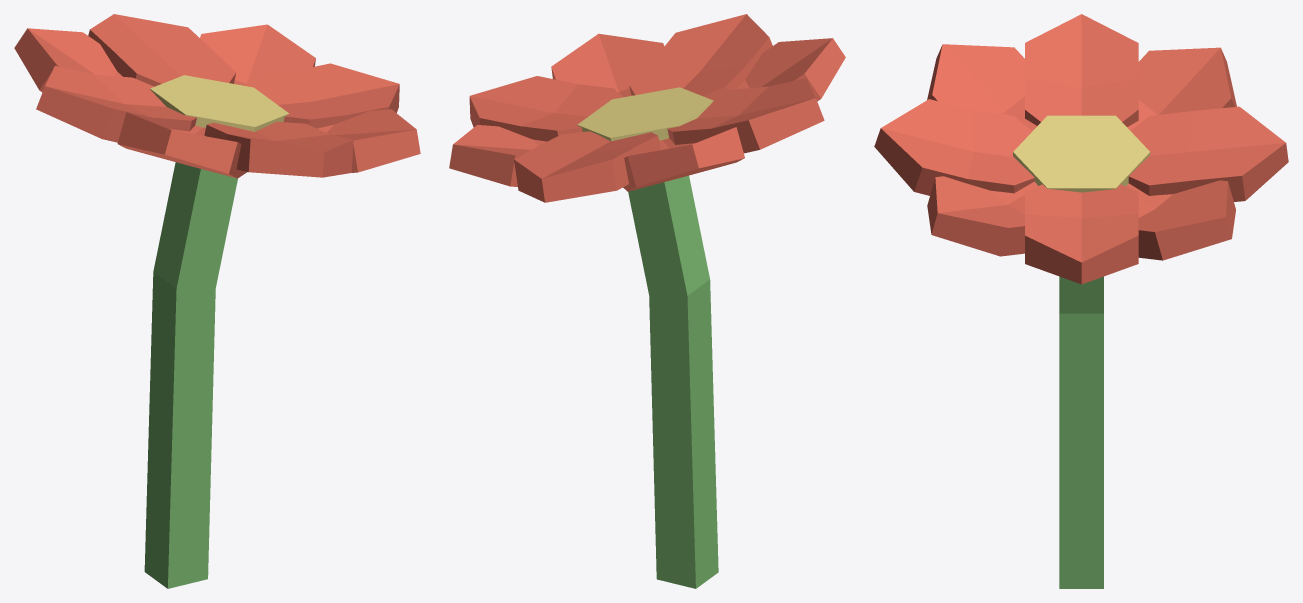
File: flower.glb
3 renders of one model, left to right at view 1: azimuth 30°, elevation 25°; view 2: azimuth 150°, elevation 25°; view 3: azimuth 270°, elevation 25°, orthographic. The views are drawn at different scales.
Visible parts, largest first — view 1: Cube.001; view 2: Cube.001; view 3: Cube.001.
Part boxes in pixels (<box>): Cube.001: <box>14,14,420,588</box>; Cube.001: <box>449,14,845,588</box>; Cube.001: <box>874,14,1288,588</box>.
Size of the model in its own units: 1.9 by 2.6 by 1.94.
1 material, 1 textured.
